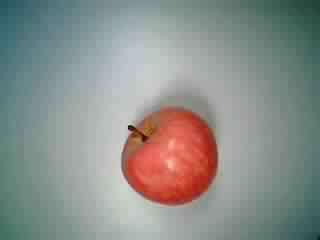apple: (117, 106, 222, 208)
